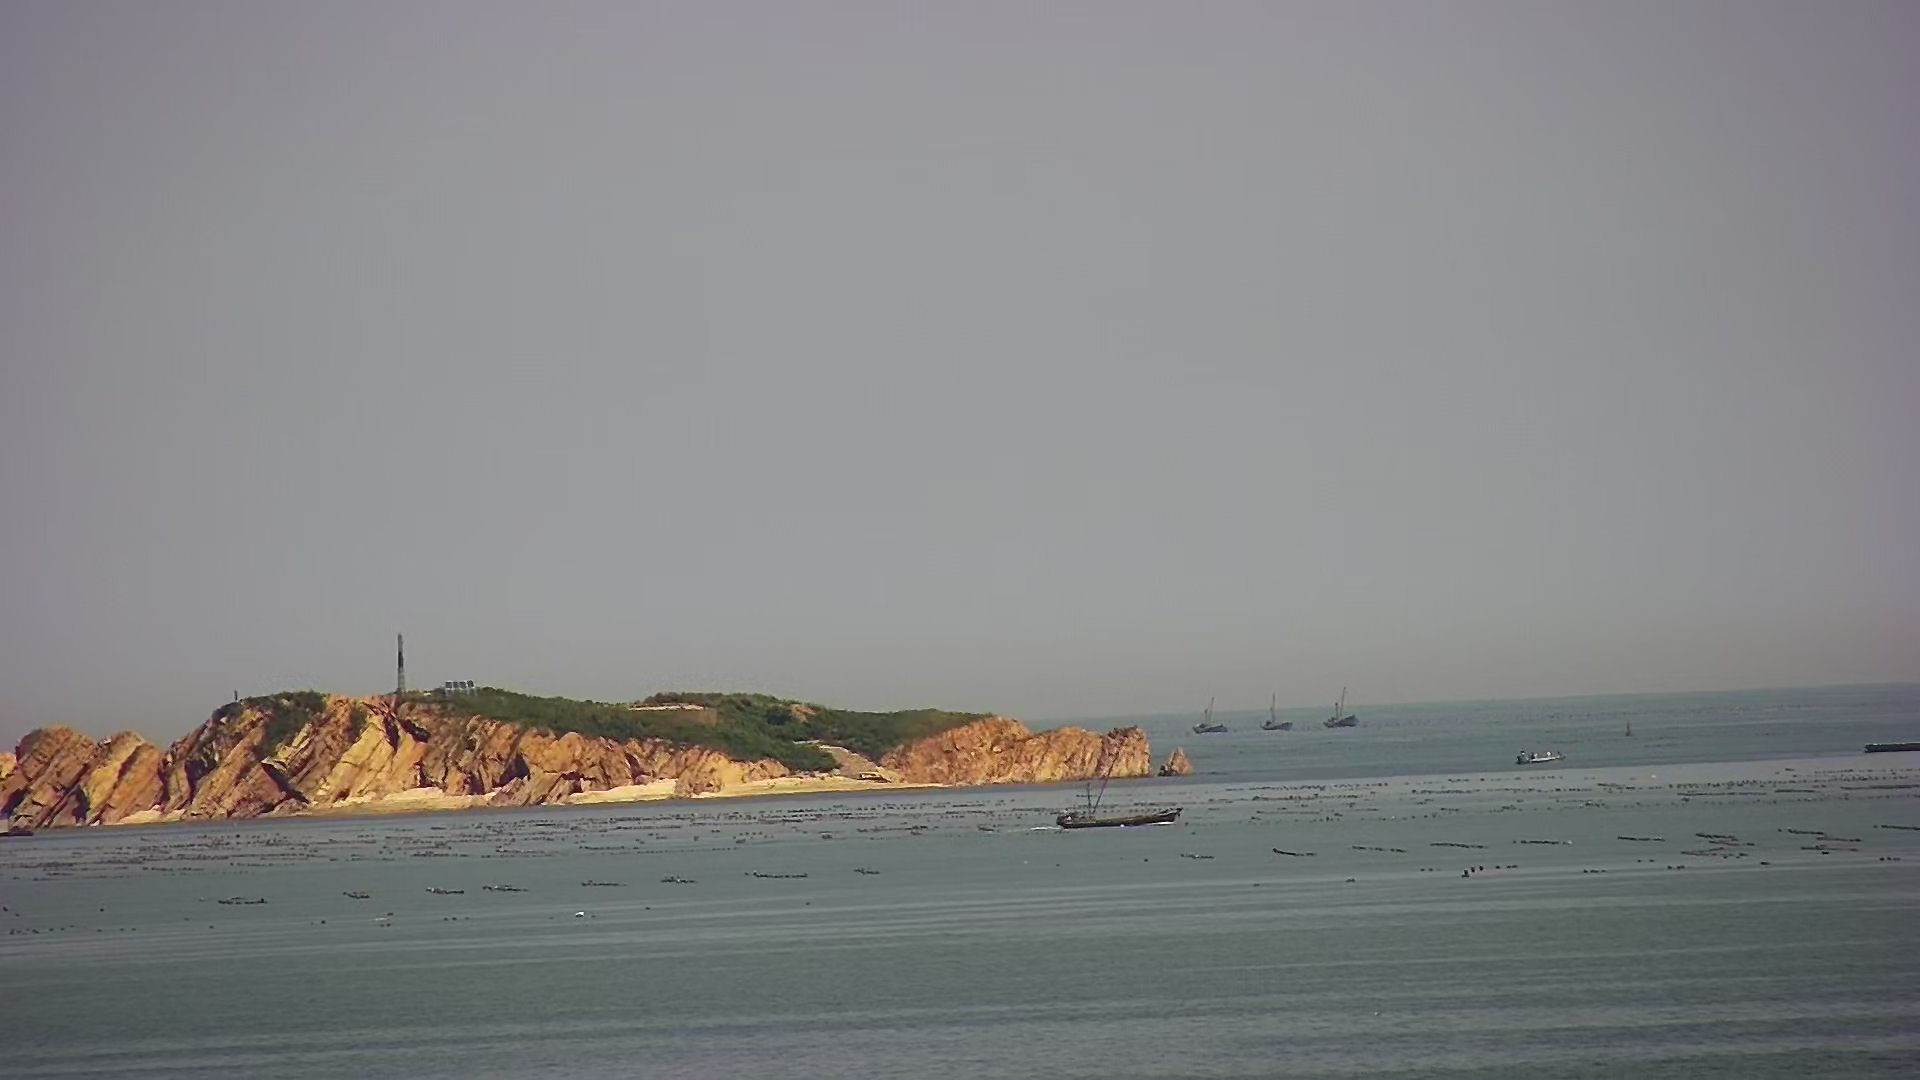boat: (1055, 767, 1184, 832), (1255, 680, 1300, 735), (1321, 678, 1364, 735), (1193, 694, 1232, 737), (1509, 748, 1573, 767)
